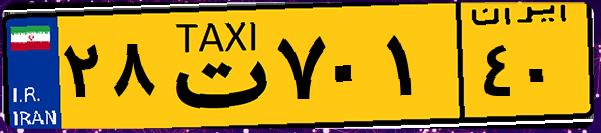0: (330, 28, 385, 110), (525, 38, 570, 115)
1: (385, 28, 445, 110)
2: (57, 26, 110, 100)
4: (475, 38, 525, 113)
7: (270, 28, 330, 110)
8: (110, 28, 158, 98)
ت: (158, 12, 270, 120)
